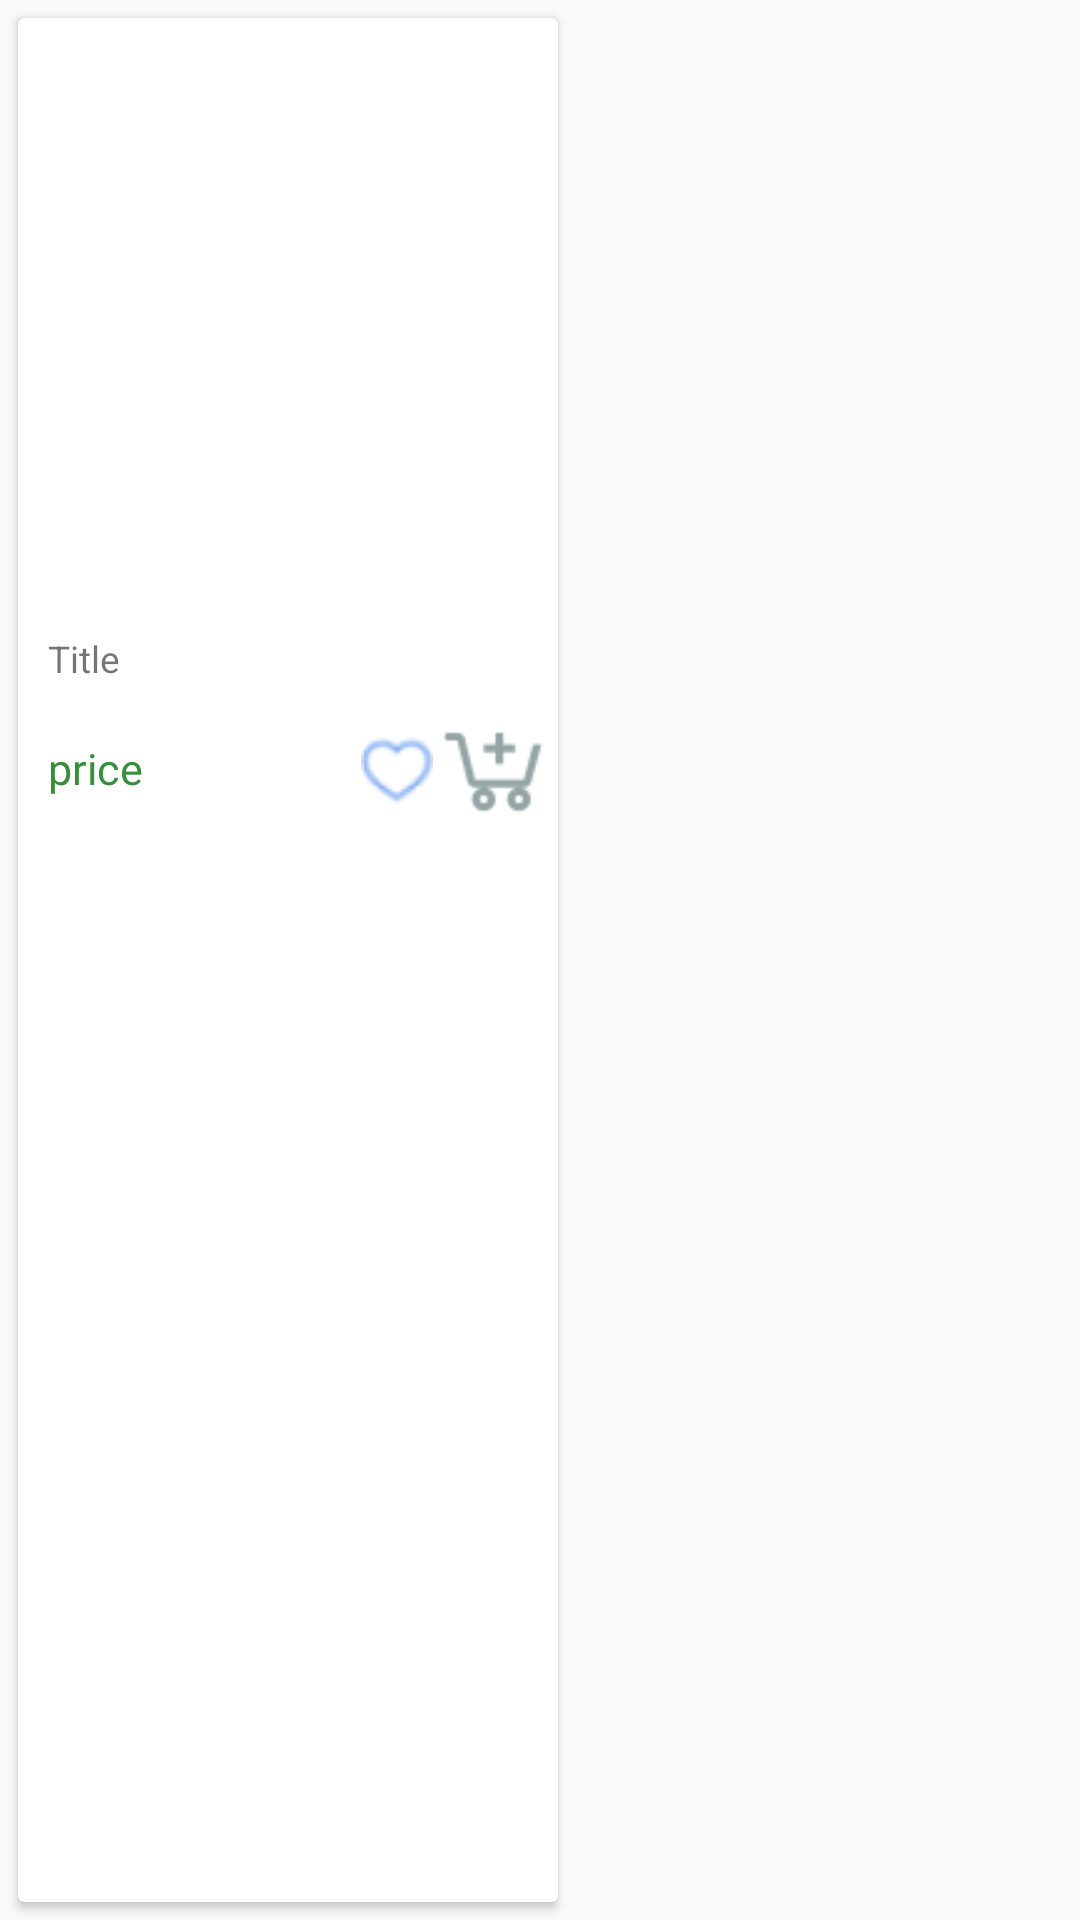

Icon click points for this 1080px x 1920px phone screenshot, format point (x, y):
cart: point (492, 771)
view all wish add: point (397, 770)
